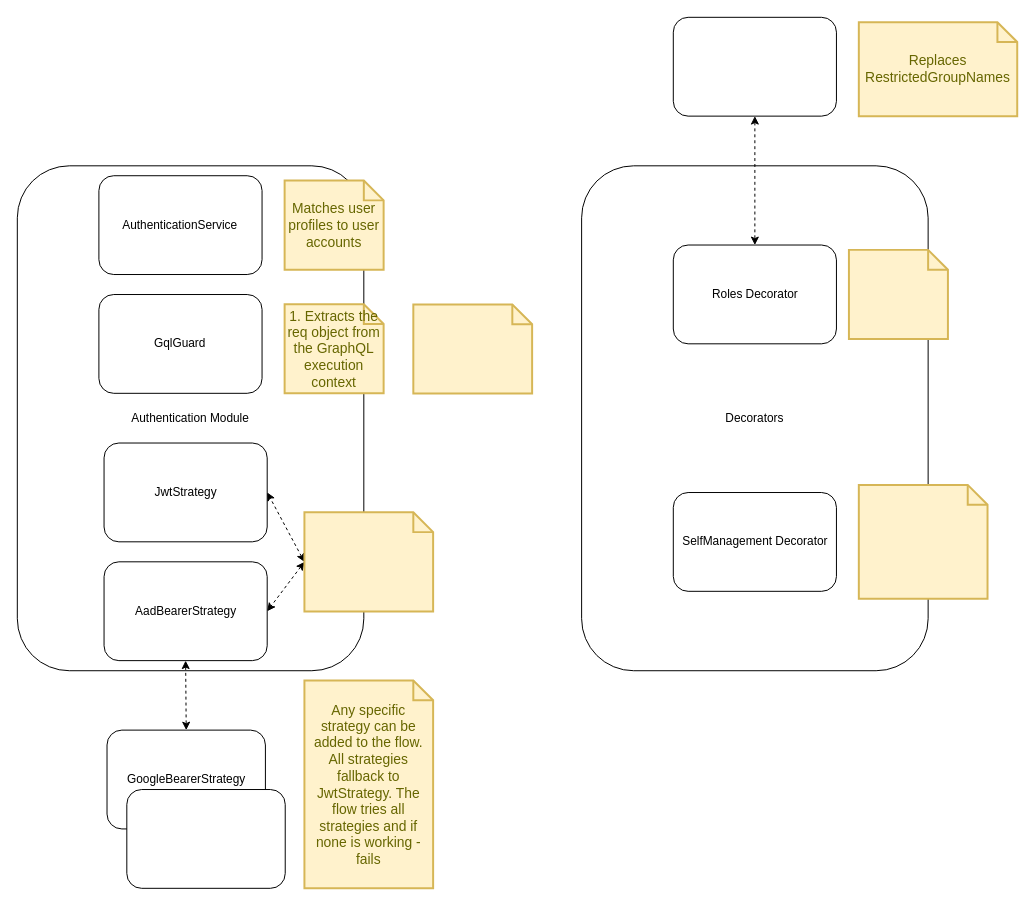
This 1036x907 diagram has some shape labels left out. The shapes that lost their labels are listed below. From the top down, each one's centre as x and y in pixels, then its label:
At [754,66]: "AuthroizationRoles".
At [897,293]: "Defines the roles that can access a resource".
At [472,348]: "2. Authorizes the user (extracted in the Authentication Service)".
At [368,561]: "Validates the token, backchannel and deserializes the claims".
At [922,541]: "Used to determine whether the user can perform the operation for herself".
At [205,838]: "FacebookBearerStrategy".
